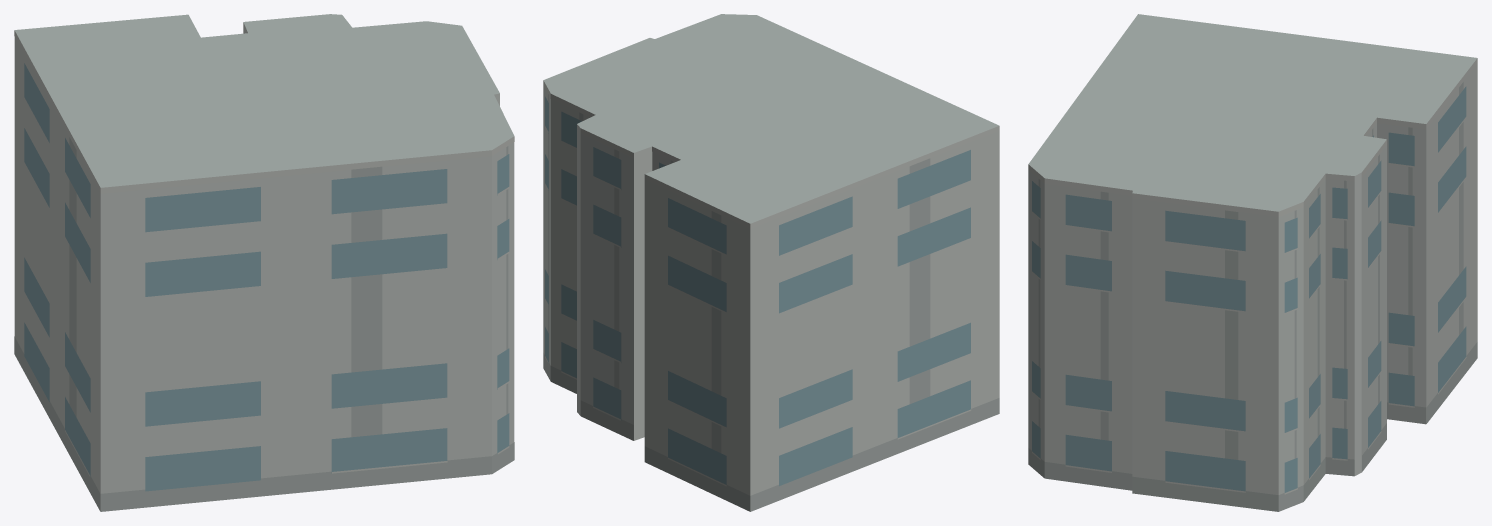
Rendered from survey-upis-32978137.glb.
3 views of the same model, side by side, from view 1: azimuth 30°, elevation 25°; view 2: azimuth 150°, elevation 25°; view 3: azimuth 270°, elevation 25° (orthographic). The views are drawn at different scales.
Visible parts, largest first — view 1: survey-upis-32978137.tmp; view 2: survey-upis-32978137.tmp; view 3: survey-upis-32978137.tmp.
Part boxes in pixels (x1,y1,x2,y2): survey-upis-32978137.tmp: (14, 14, 514, 511); survey-upis-32978137.tmp: (543, 14, 999, 511); survey-upis-32978137.tmp: (1028, 14, 1477, 511).
Bounding box in the file's own units: 18.94 × 13.4 × 18.19.
